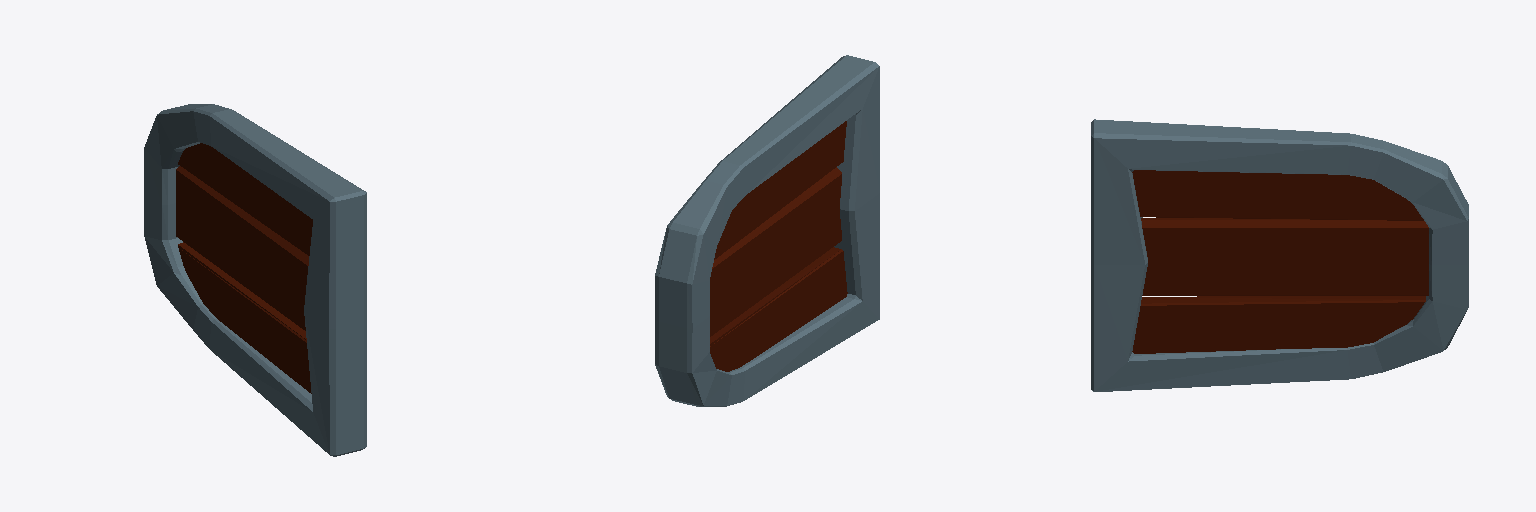
File: shield2.obj
3 views of the same model, side by side, from view 1: azimuth 30°, elevation 25°; view 2: azimuth 150°, elevation 25°; view 3: azimuth 270°, elevation 25° (orthographic).
Visible parts, largest first — view 1: shield2; view 2: shield2; view 3: shield2.
Boxes of the visible parts, box(x1,y1,x2,y2) form: shield2: box(144, 104, 366, 456); shield2: box(655, 55, 879, 406); shield2: box(1091, 119, 1468, 391).
Size of the model in its own units: 0.1882 by 1.19 by 1.57.